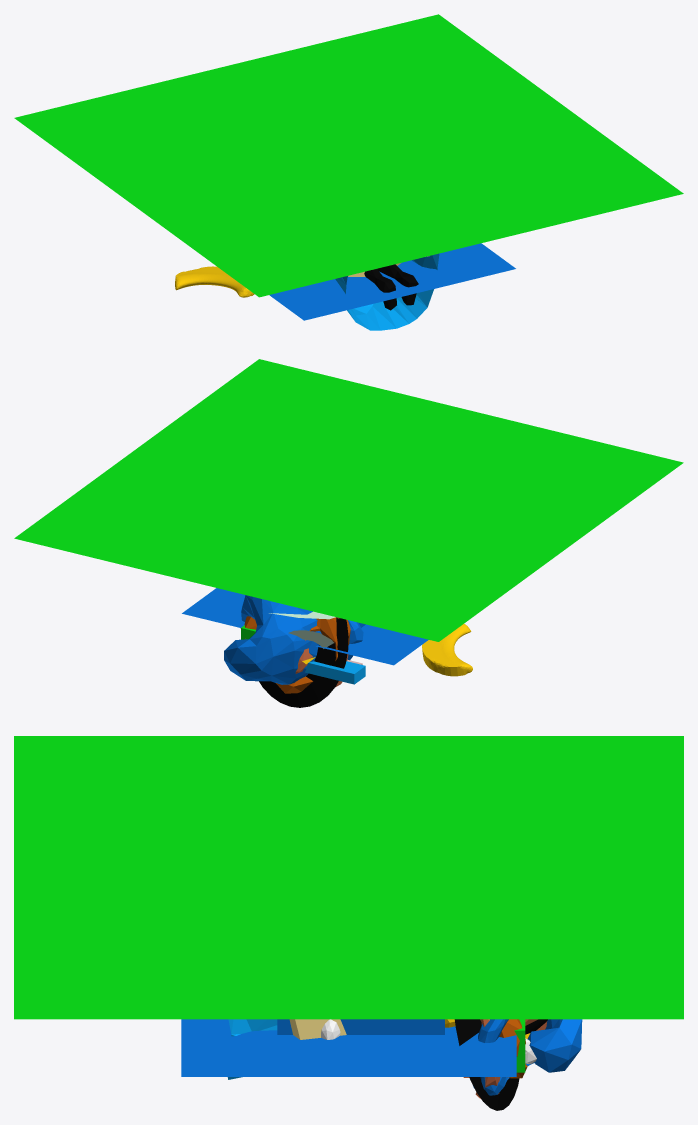
The model's file is prod.fbx.
The picture shows the model from 3 angles, top to bottom: view 1: azimuth 30°, elevation 25°; view 2: azimuth 150°, elevation 25°; view 3: azimuth 270°, elevation 25°; orthographic projection. The views are drawn at different scales.
Visible parts, largest first — view 1: greenscreen, roblox_body, skirt_default, wand, feet_left, feet_right; view 2: greenscreen, wizard_hat, roblox_body, witch_hat, wand, glitch, hat; view 3: greenscreen, roblox_body, wizard_hat, witch_hat, roblox_arm_left, skirt_default.
Part boxes in pixels (<box>): greenscreen: <box>14,14,683,297</box>; roblox_body: <box>269,243,515,320</box>; skirt_default: <box>335,253,439,330</box>; wand: <box>175,256,429,297</box>; feet_left: <box>377,264,418,305</box>; feet_right: <box>364,269,396,310</box>; greenscreen: <box>14,359,683,641</box>; wizard_hat: <box>224,595,363,684</box>; roblox_body: <box>182,588,428,665</box>; witch_hat: <box>259,617,348,707</box>; wand: <box>422,624,472,676</box>; glitch: <box>241,625,365,684</box>; hat: <box>244,616,350,693</box>; greenscreen: <box>14,736,683,1019</box>; roblox_body: <box>181,1019,516,1076</box>; wizard_hat: <box>473,1019,582,1095</box>; witch_hat: <box>454,1019,547,1110</box>; roblox_arm_left: <box>289,1019,346,1039</box>; skirt_default: <box>227,1019,277,1079</box>.
Bounding box in the file's own units: 400 × 146 × 400.
